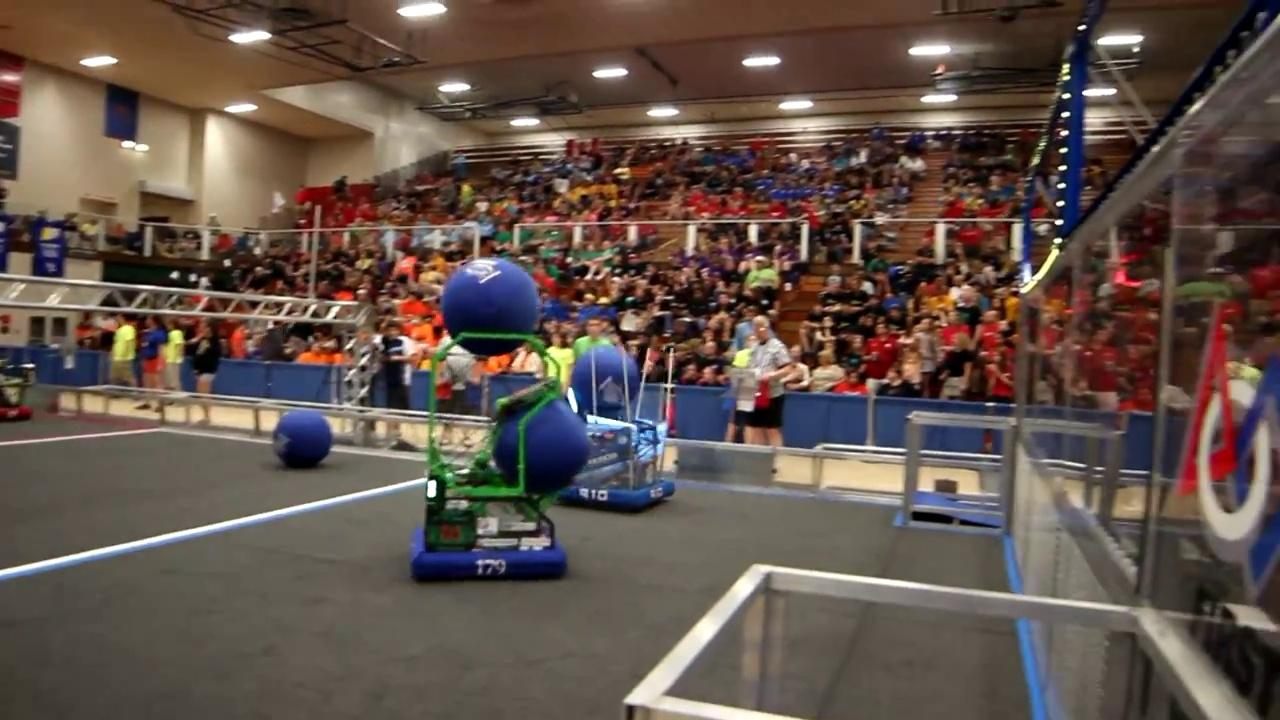robot: (416, 330, 567, 588), (545, 344, 679, 519)
